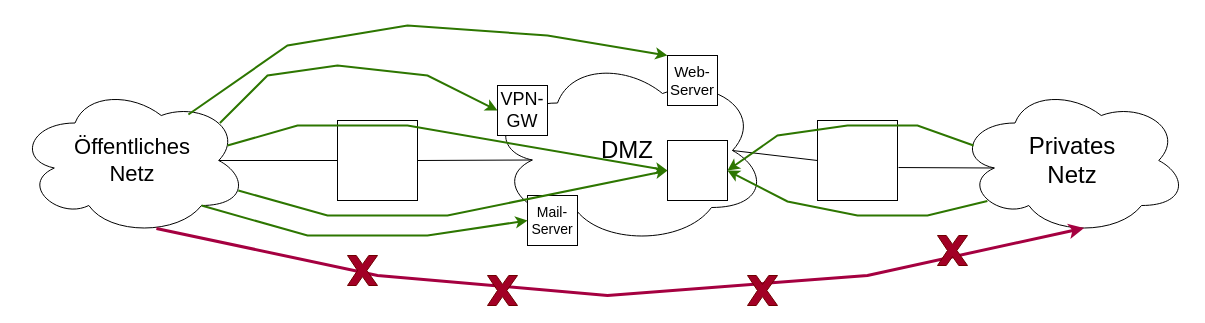
This 1205x323 diagram has some shape labels left out. The centre of each missing label's shape, as x and y in pixels:
FW 1: point 377,160
FW 2: point 857,160
Proxy: point 697,170
